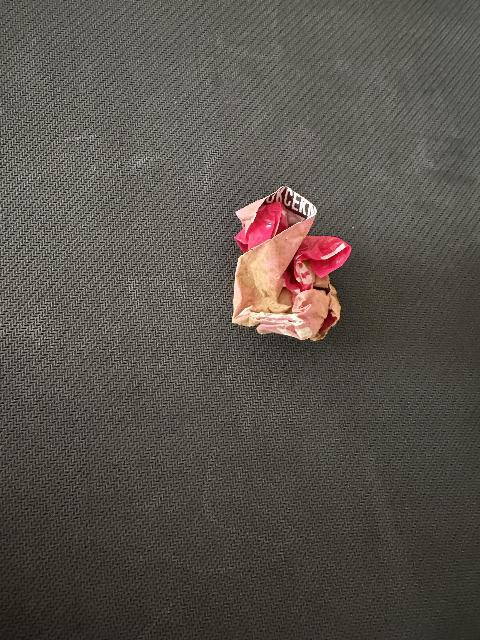Kagit: (214, 186, 351, 348)
